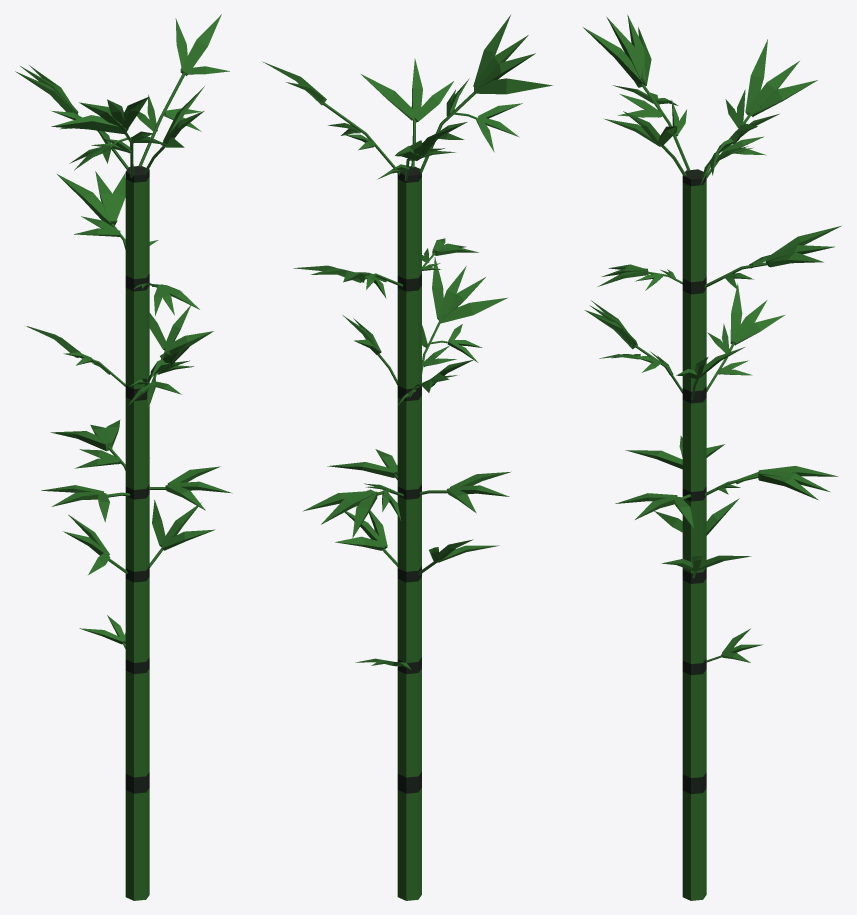
Rendered from bamboo3.FBX.
The picture shows the model from 3 angles, left to right: view 1: azimuth 30°, elevation 25°; view 2: azimuth 150°, elevation 25°; view 3: azimuth 270°, elevation 25°; orthographic projection.
Parts seen in each view (by area): view 1: bamboo3; view 2: bamboo3; view 3: bamboo3.
Boxes of the visible parts, left/top/right/bottom form: bamboo3: left=15, top=14, right=232, bottom=900; bamboo3: left=262, top=15, right=552, bottom=900; bamboo3: left=583, top=14, right=841, bottom=900.
Bounding box in the file's own units: 91.44 × 89.63 × 321.
